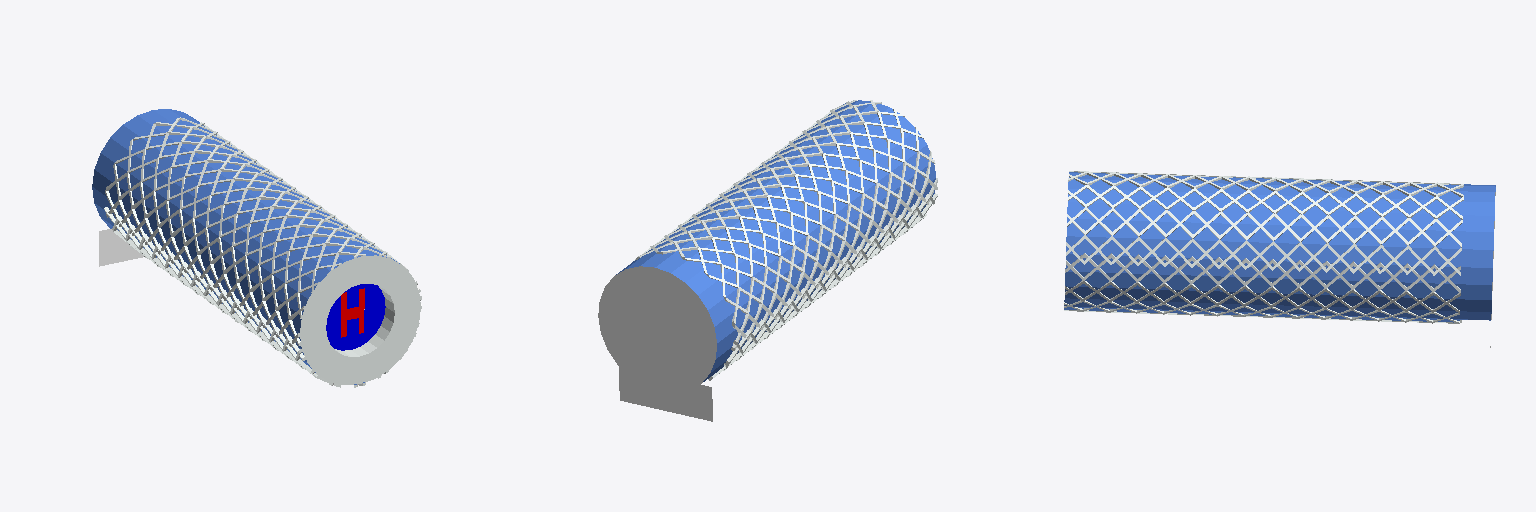
The model's file is Office.obj.
3 views of the same model, side by side, from view 1: azimuth 30°, elevation 25°; view 2: azimuth 150°, elevation 25°; view 3: azimuth 270°, elevation 25° (orthographic).
Parts seen in each view (by area): view 1: Object.18, Object.14, Object.3, Object.19, Object.11, Object.1; view 2: Object.18, Object.19; view 3: Object.18.
Part boxes in pixels (bbox=[...]): Object.18: bbox=[92, 109, 399, 372]; Object.14: bbox=[300, 255, 420, 384]; Object.3: bbox=[326, 284, 385, 350]; Object.19: bbox=[99, 229, 143, 266]; Object.11: bbox=[335, 286, 394, 356]; Object.1: bbox=[341, 288, 364, 337]; Object.18: bbox=[616, 100, 935, 381]; Object.19: bbox=[598, 266, 716, 421]; Object.18: bbox=[1064, 172, 1495, 322].
Size of the model in its own units: 53.85 by 61 by 153.